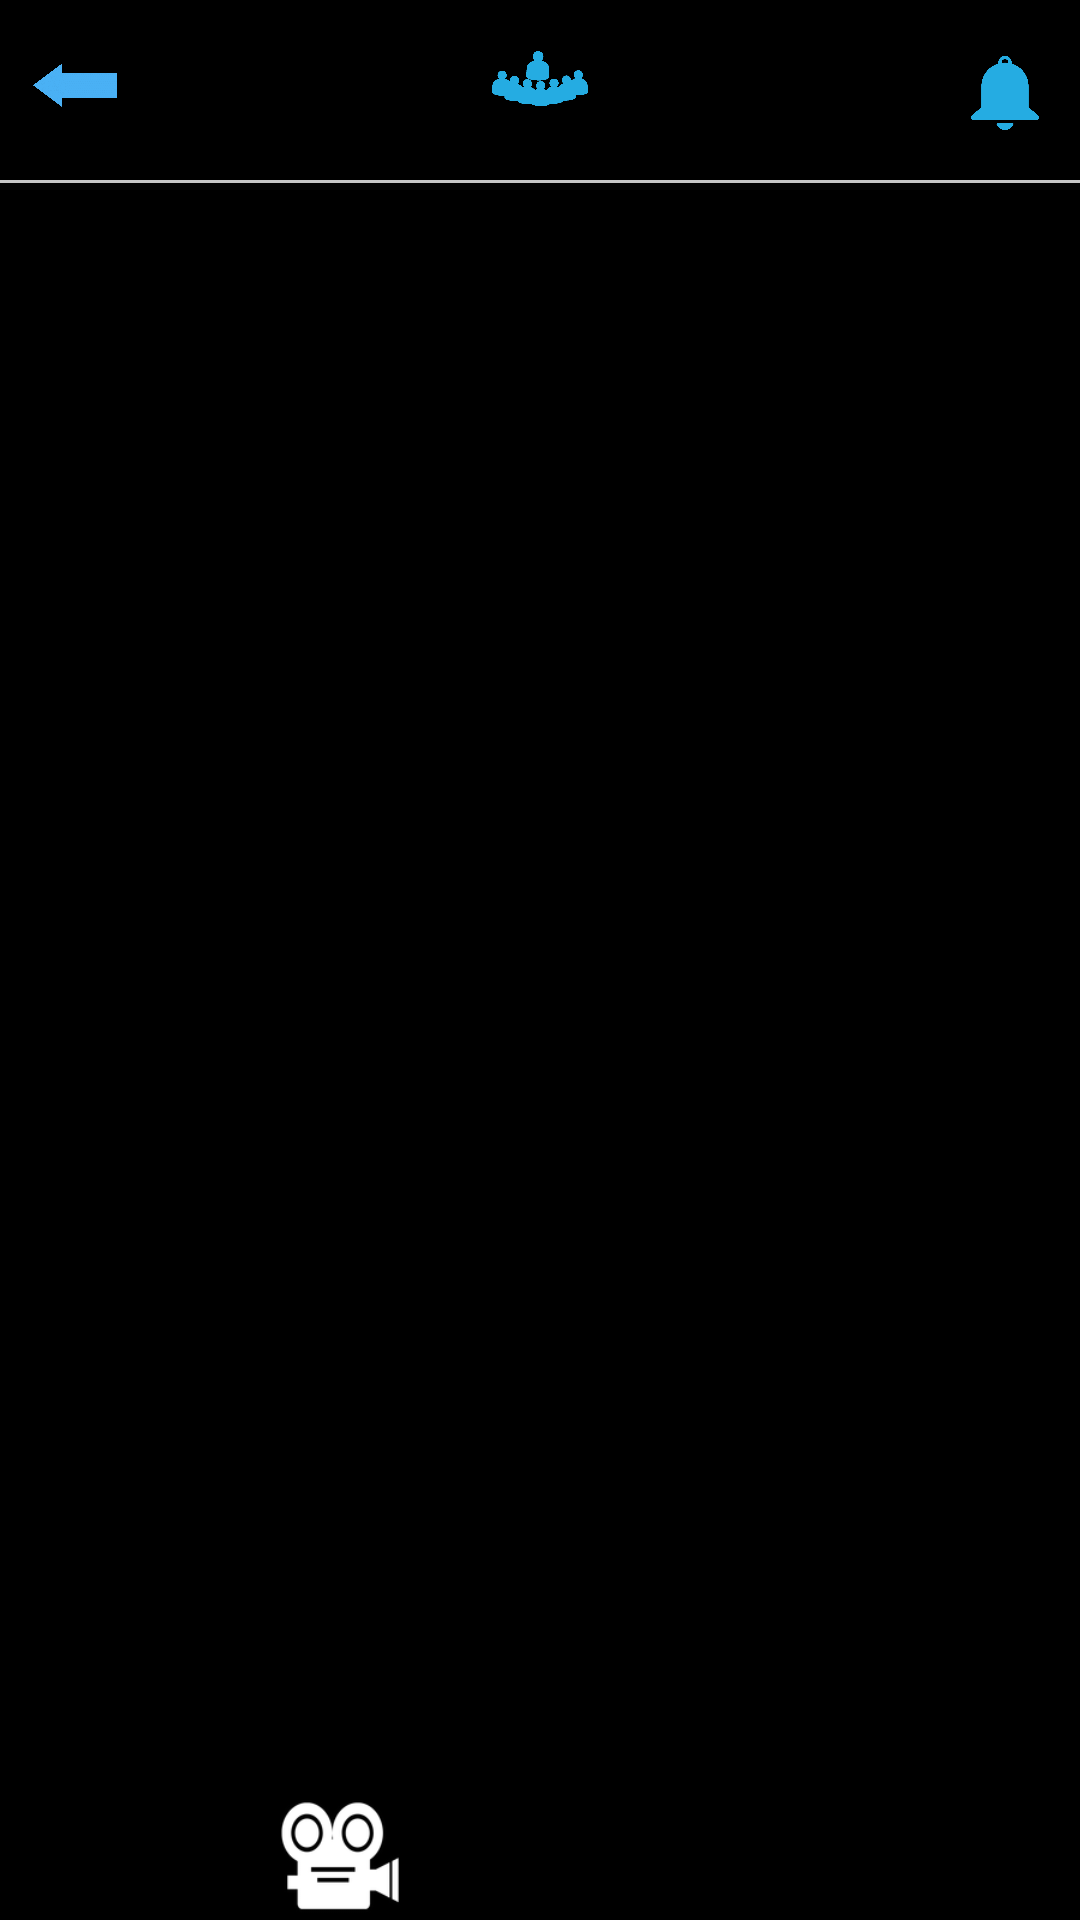

Icon bounding boxes for this 1080px x 1920px phone screenshot, format (x1, y1, x2, y2):
back: (33, 64, 117, 107)
notification: (971, 56, 1039, 130)
video: (281, 1802, 399, 1910)
